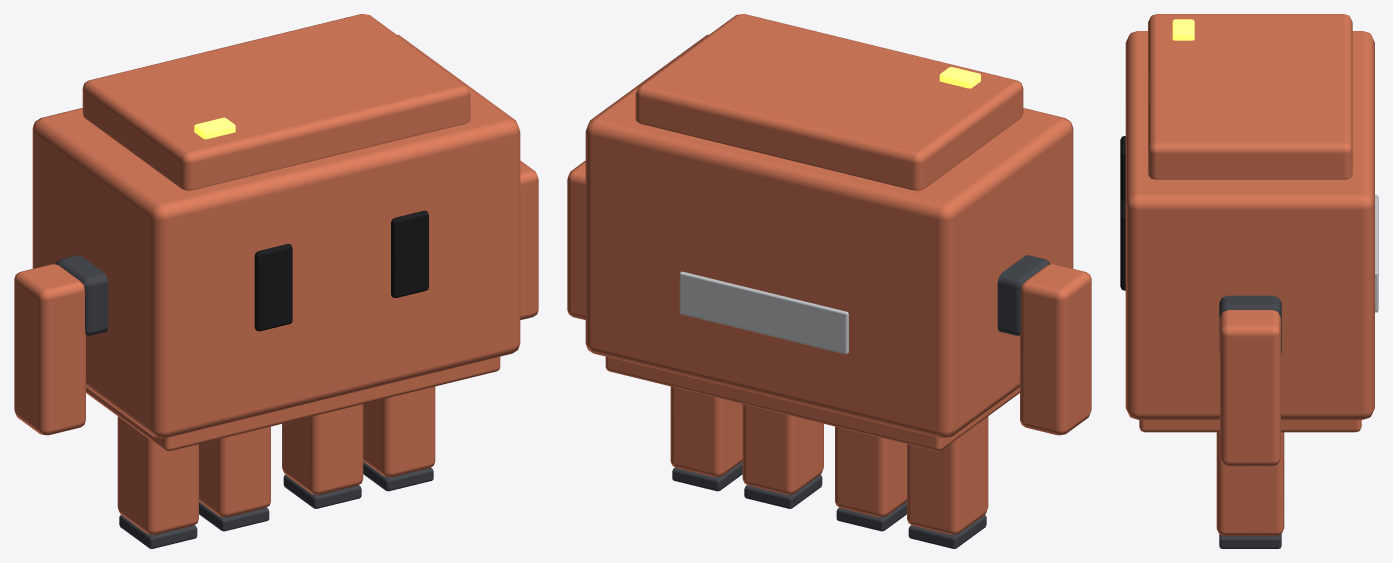
The model's file is clawd_pilot.glb.
3 renders of one model, left to right at view 1: azimuth 30°, elevation 25°; view 2: azimuth 150°, elevation 25°; view 3: azimuth 270°, elevation 25°, orthographic. The views are drawn at different scales.
Parts seen in each view (by area): view 1: Body_Main, Crown_Step, Arm_L, Leg_Outer_L, Leg_Inner_R, Leg_Outer_R, Leg_Inner_L, Lower_Skirt, Eye_Left, Eye_Right, Arm_R, Joint_Shoulder_L (+5 smaller); view 2: Body_Main, Crown_Step, Arm_L, Back_Nameplate_Alu, Leg_Outer_L, Leg_Inner_R, Leg_Outer_R, Leg_Inner_L, Lower_Skirt, Arm_R, Joint_Shoulder_L, FootPad_OL (+4 smaller); view 3: Body_Main, Crown_Step, Arm_R, Leg_Outer_R, Lower_Skirt, Joint_Shoulder_R, FootPad_OR, Eye_Right, Status_LED_Pip, Back_Nameplate_Alu, Eye_Left.
Boxes of the visible parts, x1,y1,x2,y2 form: Body_Main: (32, 34, 520, 438); Crown_Step: (82, 14, 470, 190); Arm_L: (14, 264, 85, 435); Leg_Outer_L: (117, 416, 198, 534); Leg_Inner_R: (282, 404, 363, 494); Leg_Outer_R: (363, 386, 435, 477); Leg_Inner_L: (199, 426, 270, 517); Lower_Skirt: (86, 356, 500, 451); Eye_Left: (254, 244, 292, 331); Eye_Right: (391, 210, 428, 297); Arm_R: (520, 160, 538, 319); Joint_Shoulder_L: (56, 255, 108, 335); Body_Main: (585, 34, 1073, 438); Crown_Step: (635, 14, 1023, 190); Arm_L: (1020, 264, 1091, 435); Back_Nameplate_Alu: (679, 271, 848, 354); Leg_Outer_L: (907, 416, 988, 534); Leg_Inner_R: (742, 404, 823, 494); Leg_Outer_R: (670, 386, 742, 477); Leg_Inner_L: (835, 426, 906, 517); Lower_Skirt: (605, 356, 1019, 451); Arm_R: (567, 160, 585, 319); Joint_Shoulder_L: (997, 255, 1049, 335); FootPad_OL: (908, 515, 986, 548); Body_Main: (1125, 31, 1374, 419); Crown_Step: (1148, 14, 1352, 179); Arm_R: (1219, 310, 1280, 466); Leg_Outer_R: (1216, 432, 1284, 535); Lower_Skirt: (1139, 420, 1361, 432); Joint_Shoulder_R: (1219, 295, 1281, 353); FootPad_OR: (1219, 534, 1281, 548); Eye_Right: (1120, 200, 1125, 290); Status_LED_Pip: (1172, 19, 1194, 40); Back_Nameplate_Alu: (1375, 194, 1378, 312); Eye_Left: (1120, 136, 1125, 203).
Bounding box in the file's own units: 1.25 × 1.02 × 0.58.
